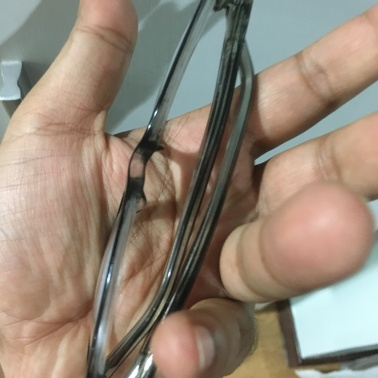glasses: (101, 4, 245, 378)
